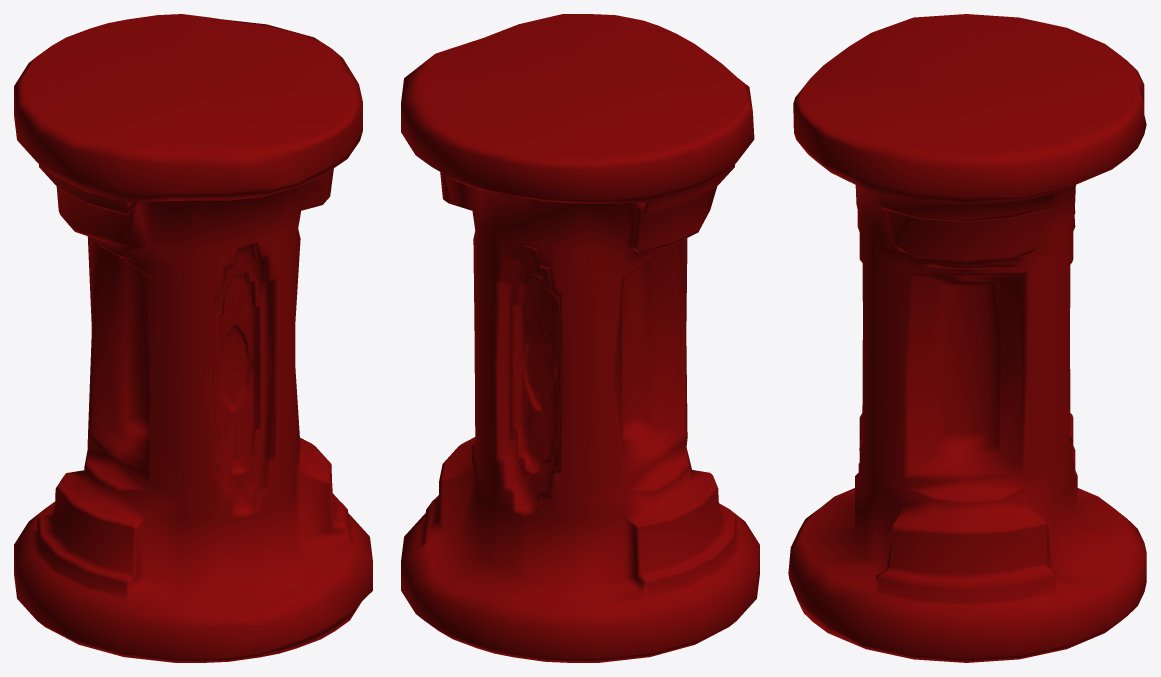
The model's file is smPillarLight.fbx.
The picture shows the model from 3 angles, left to right: view 1: azimuth 30°, elevation 25°; view 2: azimuth 150°, elevation 25°; view 3: azimuth 270°, elevation 25°; orthographic projection.
Parts seen in each view (by area): view 1: pillarLight; view 2: pillarLight; view 3: pillarLight.
Boxes of the visible parts, <box> form: pillarLight: <box>14,14,372,662</box>; pillarLight: <box>401,14,759,662</box>; pillarLight: <box>788,14,1146,662</box>.
Size of the model in its own units: 473 by 730 by 470.
